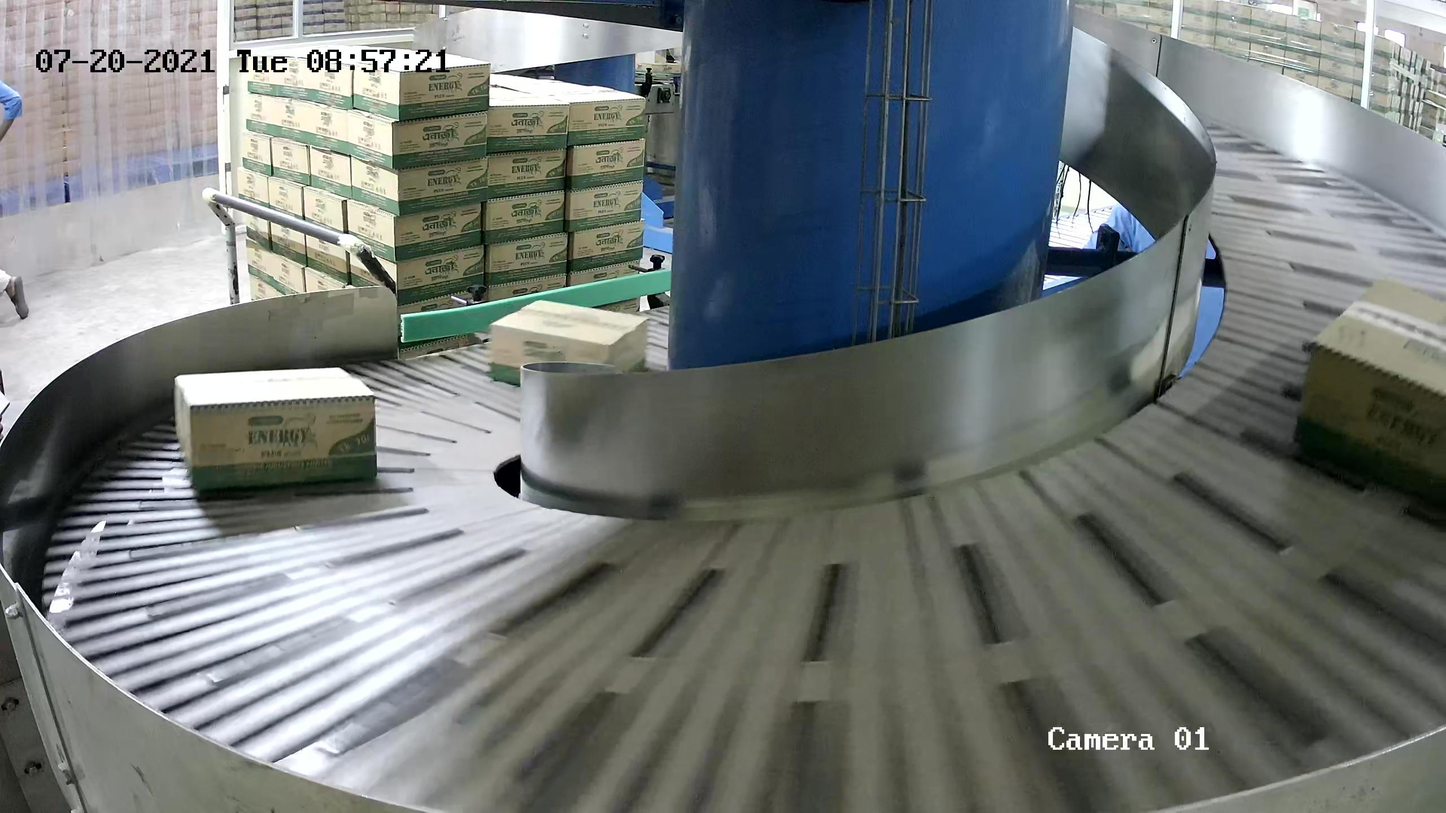Box: (1290, 276, 1446, 515), (172, 365, 380, 493), (488, 298, 649, 399)
